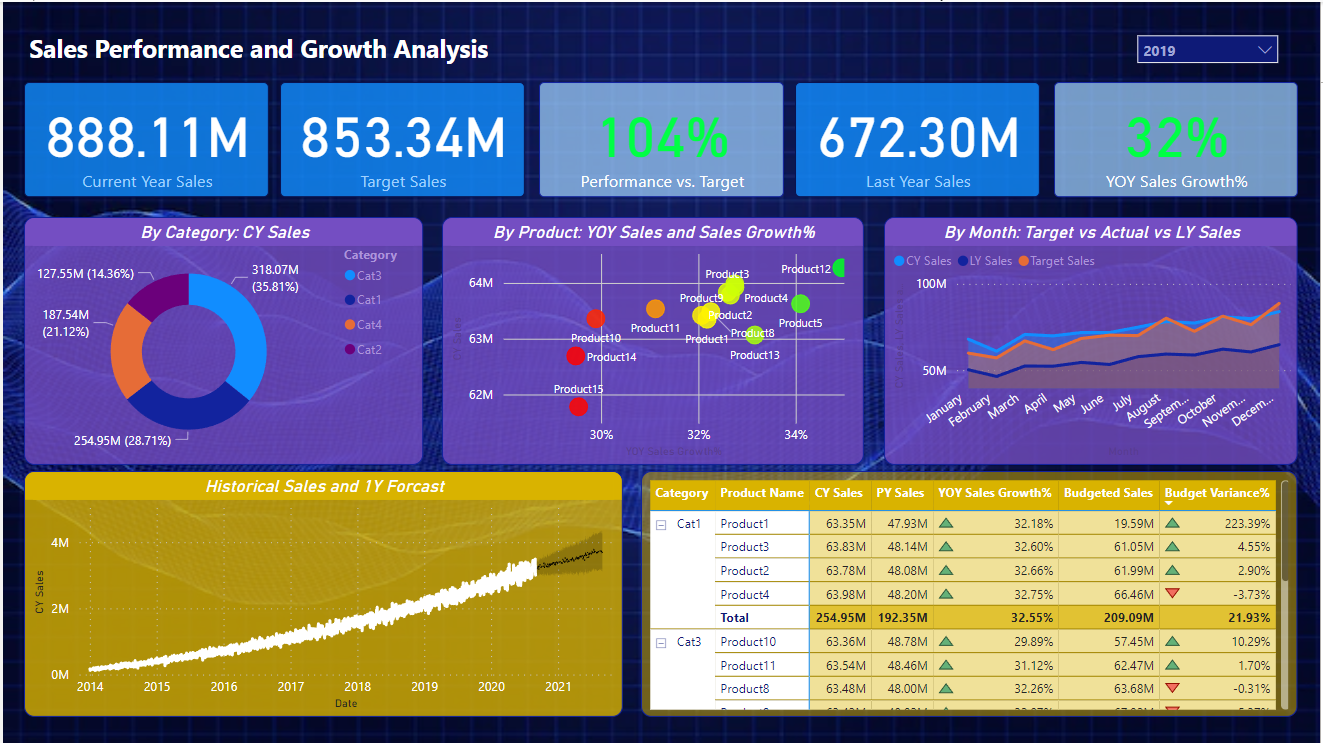

The page's visual inventory and layout, read from the dashboard file:
{"tool":"powerbi","page":{"name":"Dashboard","canvas":[1280,720],"ordinal":0},"visuals":[{"type":"card","fields":{"Values":["Sales.CY Sales"]},"box":[20.2,78.1,238,112.4],"z":0},{"type":"card","fields":{"Values":["Sales.Budgeted Sales"]},"box":[269.6,78.1,238,112.4],"z":1000},{"type":"card","fields":{"Values":["Sales.Budget Variance%"]},"box":[520.7,78.1,238,112.4],"z":2000},{"type":"card","fields":{"Values":["Sales.PY Sales"]},"box":[770,78.1,238,112.4],"z":3000},{"type":"card","fields":{"Values":["Sales.YOY Sales Growth%"]},"box":[1021.2,78.1,237.1,112.4],"z":4000},{"type":"slicer","fields":{"Values":["Date Dim.Year","Date Dim.Quarter","Date Dim.Month"]},"box":[1092.1,22.6,156.8,45.1],"z":5000},{"type":"donutChart","title":"By Category: CY Sales","fields":{"Category":["Product Master.Category"],"Y":["Sales.CY Sales"]},"box":[20.2,209,388.1,240.6],"z":6000},{"type":"scatterChart","title":"By Product: YOY Sales and Sales Growth%","fields":{"Y":["Sales.CY Sales"],"X":["Sales.YOY Sales Growth%"],"Category":["Product Master.Product Name"]},"box":[426.7,209,410,240.6],"z":7000},{"type":"areaChart","title":"By Month: Target vs Actual vs LY Sales","fields":{"Y":["Sales.CY Sales","Sales.PY Sales","Sales.Budgeted Sales"],"Category":["Date Dim.Month"]},"box":[856.1,209,402.1,240.6],"z":8000},{"type":"lineChart","title":"Historical Sales and 1Y Forcast","fields":{"Y":["Sales.CY Sales"],"Category":["Date Dim.Date"]},"box":[20.2,455.7,582.1,238.8],"z":9000},{"type":"pivotTable","fields":{"Rows":["Product Master.Category","Product Master.Product Name"],"Values":["Sales.CY Sales","Sales.PY Sales","Sales.YOY Sales Growth%","Sales.Budgeted Sales","Sales.Budget Variance2%"]},"box":[619.9,455.7,638.3,238.8],"z":10000},{"type":"textbox","box":[20.4,23.3,858.2,44.7],"z":11000}]}

Visuals, with their boxes in screenshot pixels (x1, y1, x2, y2), scaled from the page's 1280x720 canvas onto the 1323x743 screenshot:
card - Sales.CY Sales: [x1=21, y1=81, x2=267, y2=197]
card - Sales.Budgeted Sales: [x1=279, y1=81, x2=525, y2=197]
card - Sales.Budget Variance%: [x1=538, y1=81, x2=784, y2=197]
card - Sales.PY Sales: [x1=796, y1=81, x2=1042, y2=197]
card - Sales.YOY Sales Growth%: [x1=1056, y1=81, x2=1301, y2=197]
slicer - Date Dim.Year x Date Dim.Quarter: [x1=1129, y1=23, x2=1291, y2=70]
"By Category: CY Sales" donutChart: [x1=21, y1=216, x2=422, y2=464]
"By Product: YOY Sales and Sales Growth%" scatterChart: [x1=441, y1=216, x2=865, y2=464]
"By Month: Target vs Actual vs LY Sales" areaChart: [x1=885, y1=216, x2=1300, y2=464]
"Historical Sales and 1Y Forcast" lineChart: [x1=21, y1=470, x2=623, y2=717]
pivotTable - Product Master.Category x Product Master.Product Name: [x1=641, y1=470, x2=1300, y2=717]
textbox: [x1=21, y1=24, x2=908, y2=70]
